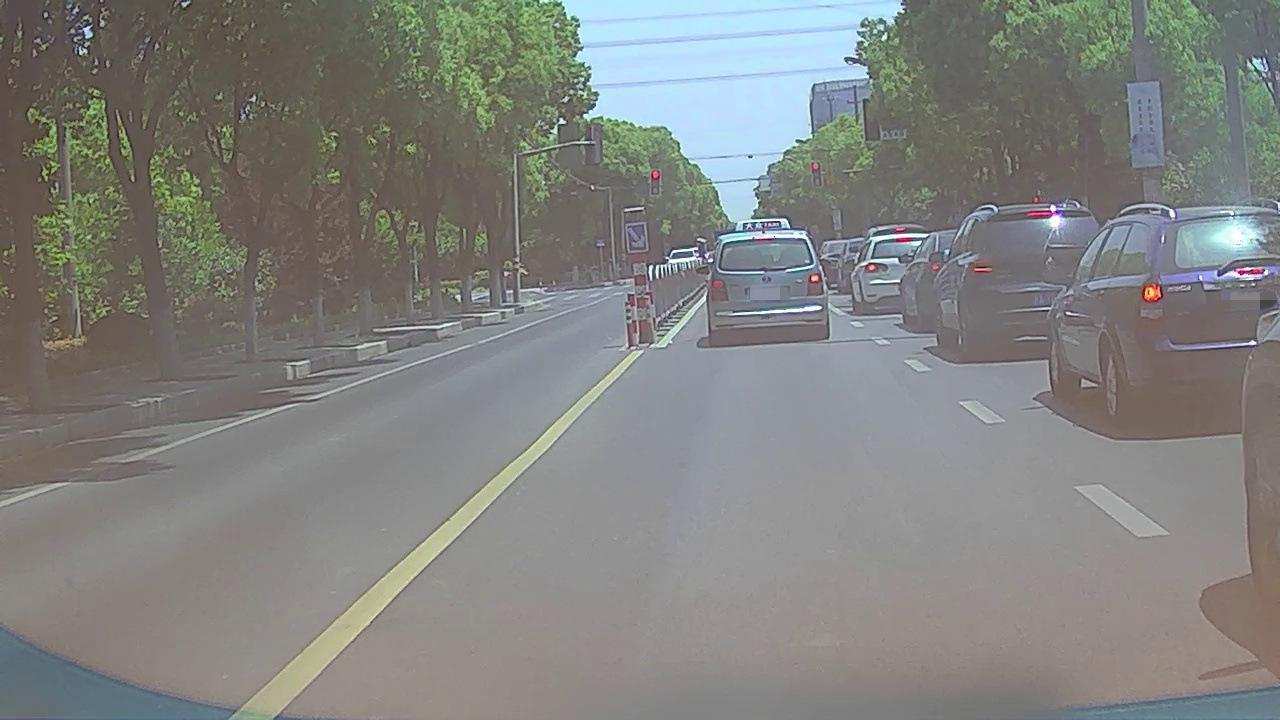traffic_light: (651, 169, 660, 196), (812, 161, 821, 185)
